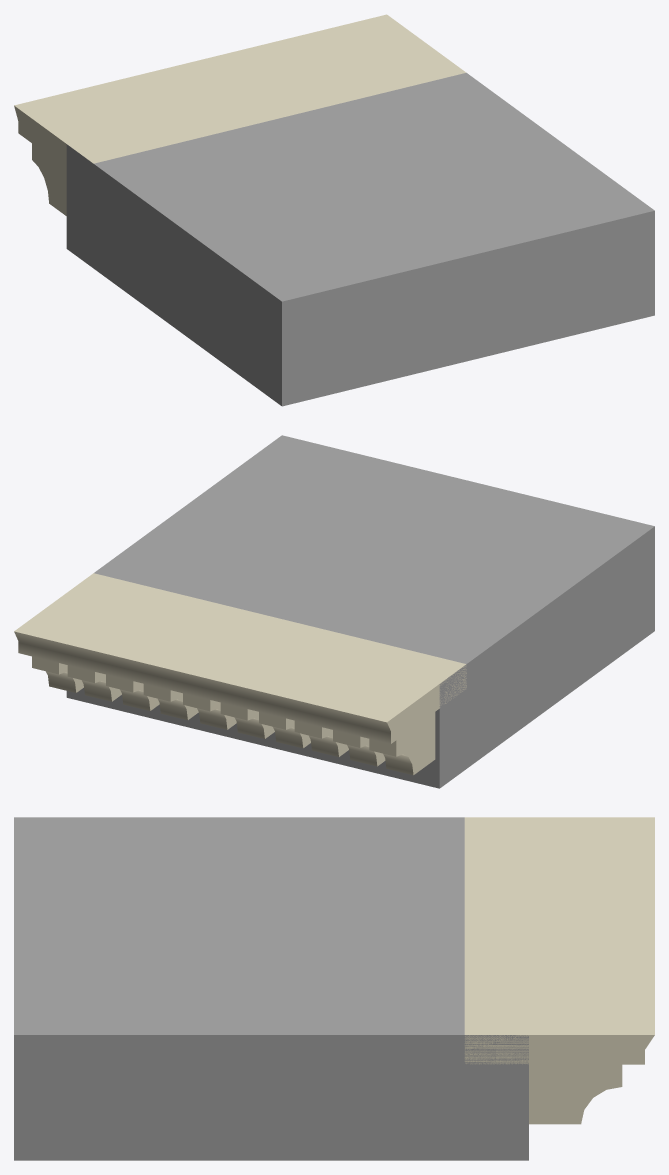
Rendered from Wall_top_trim_left.fbx.
The picture shows the model from 3 angles, top to bottom: view 1: azimuth 30°, elevation 25°; view 2: azimuth 150°, elevation 25°; view 3: azimuth 270°, elevation 25°; orthographic projection. The views are drawn at different scales.
Visible parts, largest first — view 1: polySurface16; view 2: polySurface16; view 3: polySurface16.
Part boxes in pixels (x1=…): polySurface16: x1=14, y1=14, x2=654, y2=406; polySurface16: x1=14, y1=435, x2=654, y2=788; polySurface16: x1=14, y1=817, x2=654, y2=1160.
Bounding box in the file's own units: 400 × 107 × 498.
